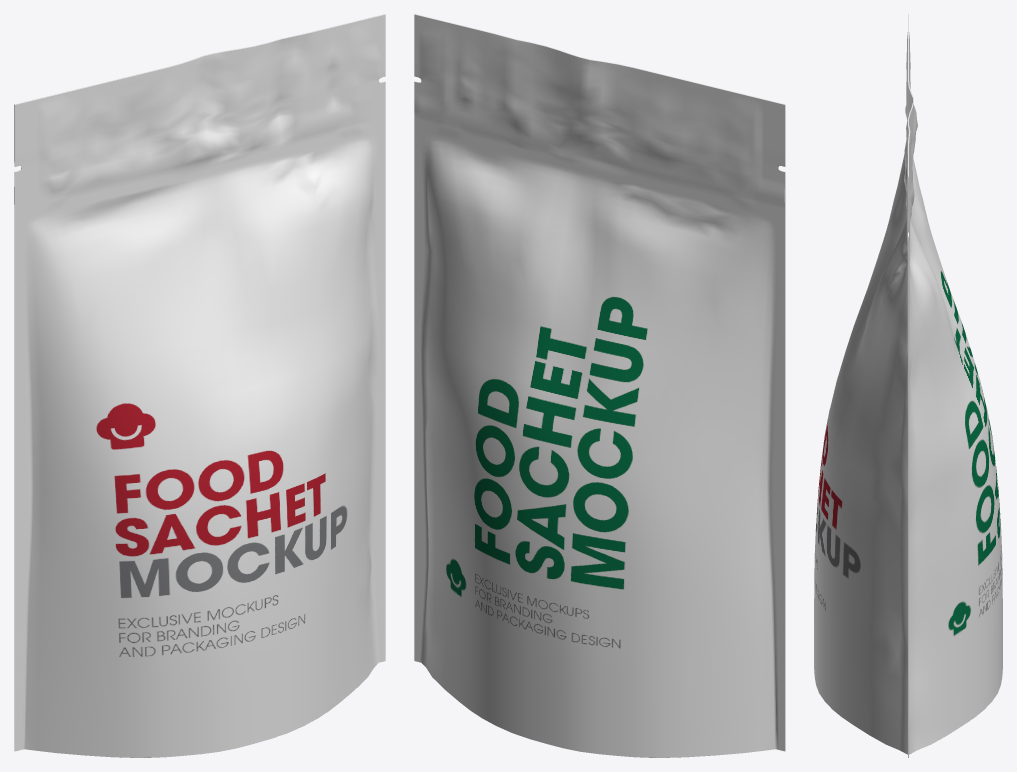
3 views of the same model, side by side, from view 1: azimuth 30°, elevation 25°; view 2: azimuth 150°, elevation 25°; view 3: azimuth 270°, elevation 25° (orthographic). The views are drawn at different scales.
Visible parts, largest first — view 1: Plane002, Plane001; view 2: Mat truoc, Plane001; view 3: Mat truoc, Plane002, Plane001.
Boxes of the visible parts, box(x1,y1,x2,y2) form: Plane002: box(15, 14, 385, 757); Plane001: box(14, 14, 385, 757); Mat truoc: box(414, 14, 784, 757); Plane001: box(414, 14, 785, 757); Mat truoc: box(909, 32, 1002, 754); Plane002: box(814, 32, 912, 754); Plane001: box(831, 14, 985, 757).
Size of the model in its own units: 0.15 by 0.25 by 0.0735.
3 materials, 2 textured.
